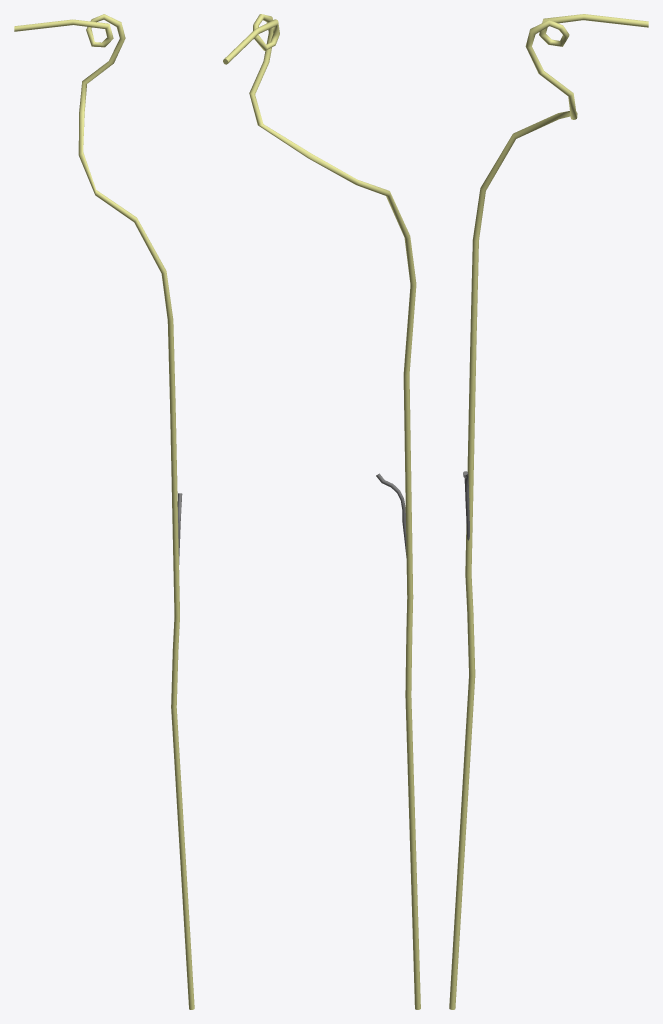
The model's file is Chord02.fbx.
3 renders of one model, left to right at view 1: azimuth 90°, elevation 25°; view 2: azimuth 150°, elevation 25°; view 3: azimuth 270°, elevation 25°, orthographic. The views are drawn at different scales.
Parts seen in each view (by area): view 1: Chord; view 2: Chord; view 3: Chord.
Part boxes in pixels (left/top/right/bottom): Chord: left=14, top=14, right=194, bottom=1009; Chord: left=223, top=14, right=420, bottom=1009; Chord: left=449, top=14, right=648, bottom=1009.
Bounding box in the file's own units: 2.58 × 20.16 × 3.49.
